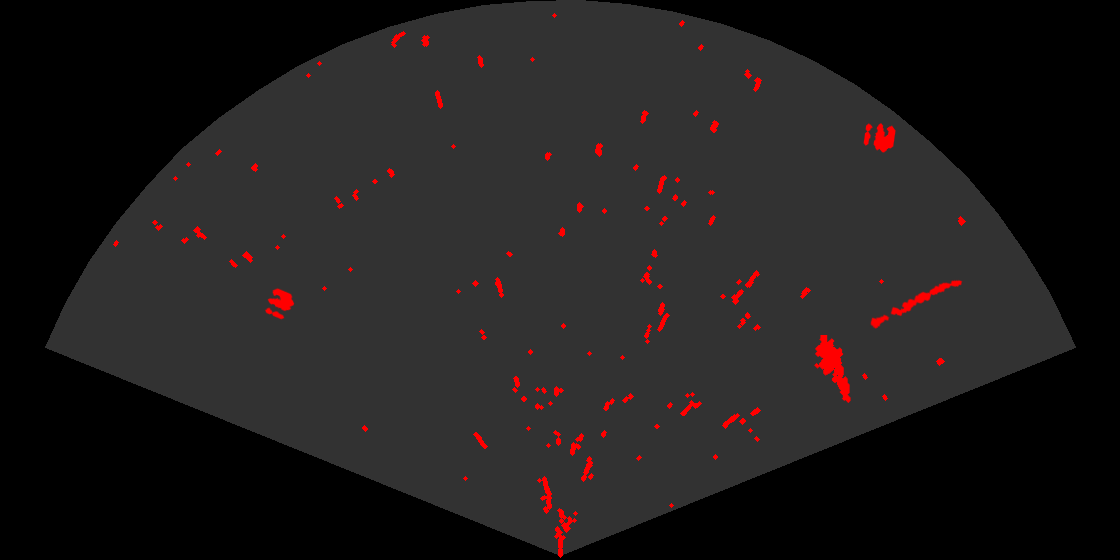ball: (263, 286, 296, 321), (862, 121, 897, 154)
chain: (869, 278, 964, 330)
frogman: (813, 335, 852, 403)
